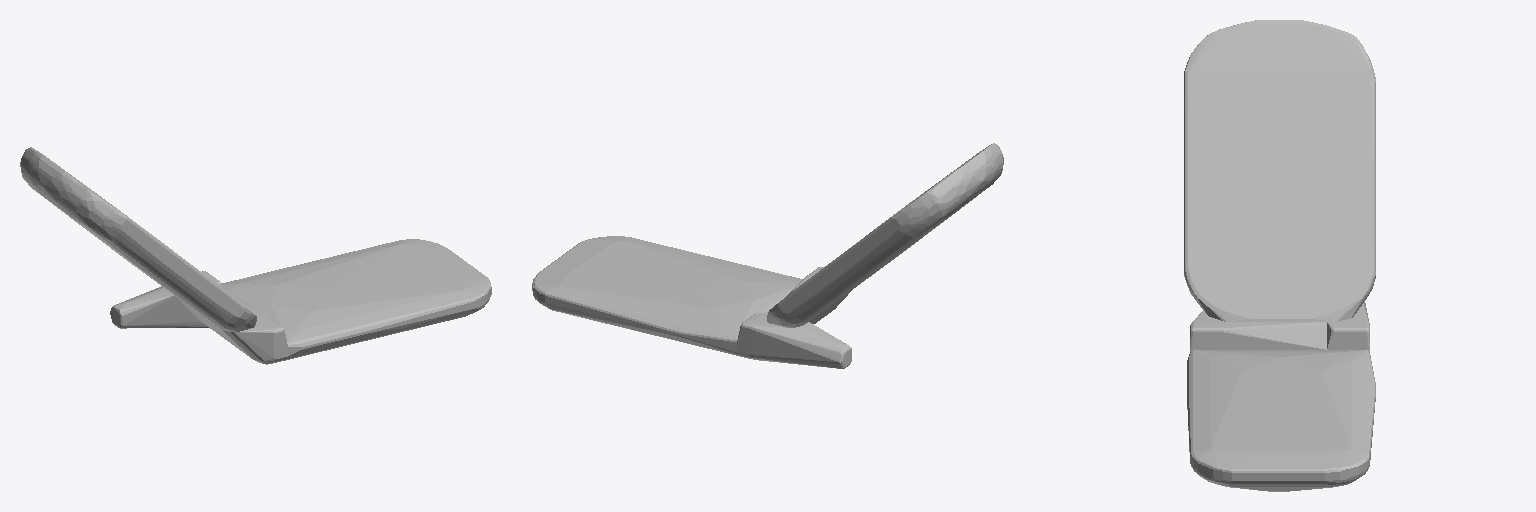
robot.urdf — root:
<?xml version="1.0"?>
<robot name="root">
  <link name="base_link">
    <visual>
      <origin xyz="0 0 0" rpy="0 0 0" />
      <geometry>
        <mesh filename="../meshes/unidex_sem_CellPhone-4e2f684b3cebdbc344f470fdd42caac6_008.obj" scale="1.0000E+00 1.0000E+00 1.0000E+00" />
      </geometry>
      <material name="">
        <color rgba="7.50E-01 7.50E-01 7.50E-01 1" />
      </material>
    </visual>
    <collision>
      <origin xyz="0 0 0" rpy="0 0 0" />
      <geometry>
        <mesh filename="../meshes/unidex_sem_CellPhone-4e2f684b3cebdbc344f470fdd42caac6_008.obj" scale="1.0000E+00 1.0000E+00 1.0000E+00" />
      </geometry>
    </collision>
  </link>
</robot>

--- What the picture shows (computed from the rendered views, not written in the file) ---
The picture shows the robot from 3 angles, left to right: view 1: azimuth 30°, elevation 25°; view 2: azimuth 150°, elevation 25°; view 3: azimuth 270°, elevation 25°; orthographic projection.
Model root with 1 links and 0 joints (none), rooted at base_link, posed all joints at 0.
Visible links, largest first — view 1: base_link; view 2: base_link; view 3: base_link.
Link boxes in pixels (x1,y1,x2,y2): base_link: (20,147,491,364); base_link: (532,143,1003,368); base_link: (1184,20,1375,491).
Bounding box of the posed robot: 0.1421 × 0.0494 × 0.0726 m (x, y, z).
Meshes: 1 distinct files referenced, 1 mesh visuals loaded (1 OBJ).
